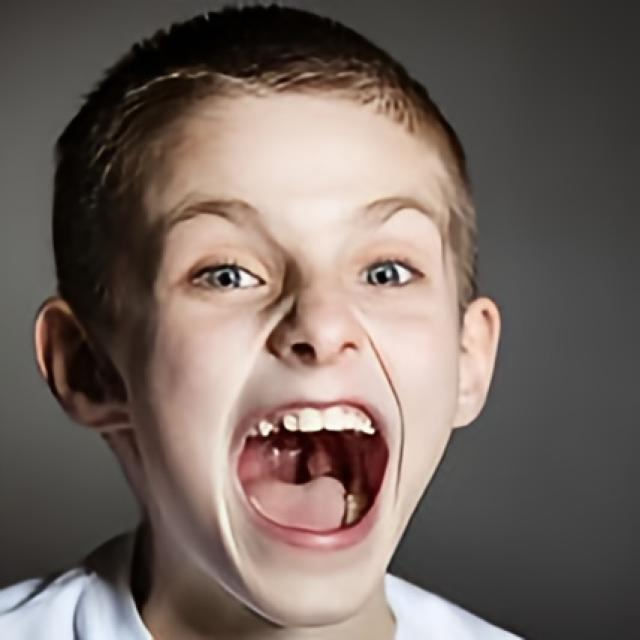surprise: (129, 64, 462, 626)
